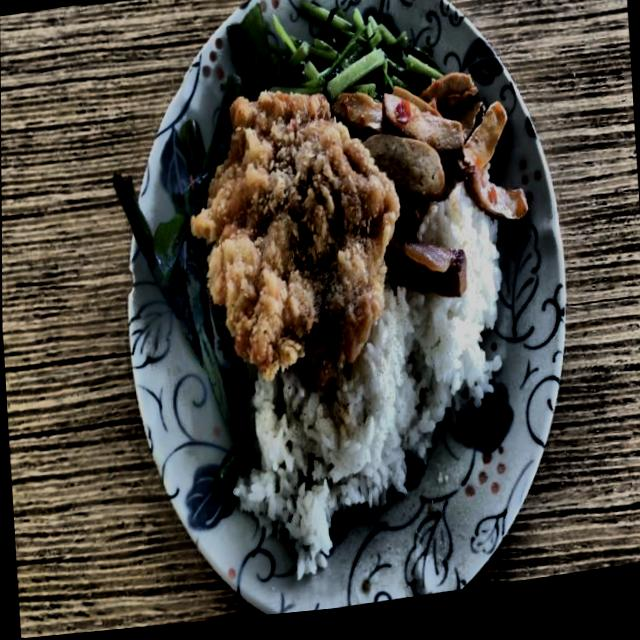Food: (195, 82, 394, 379), (240, 310, 482, 532), (239, 6, 430, 112)
